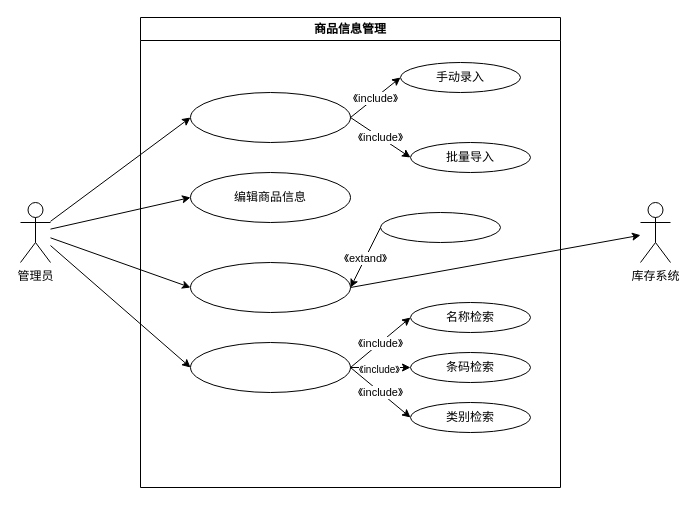
The diagram is 696 pixels wide and 505 high, and some of its shapes have lost their labels. The shapes that lost their labels are listed below. From the top down, each one's centre as x and y in pixels, then its label:
At point (270, 117): "录入商品信息".
At point (440, 227): "检查库存状态".
At point (270, 287): "删除/下架商品".
At point (270, 367): "查询商品信息".
